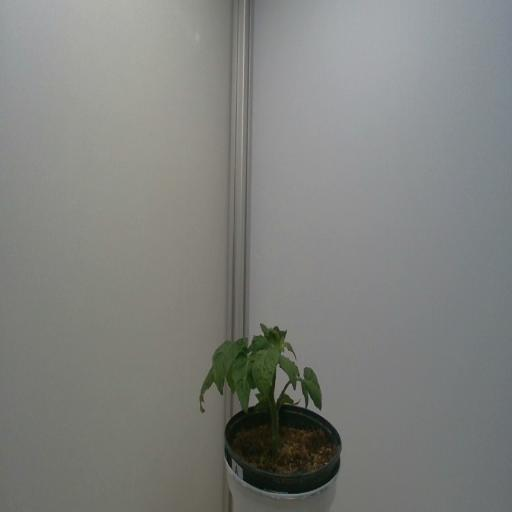Tomato-Leaves-Cupboard-: (210, 338, 244, 396), (303, 366, 327, 416), (234, 351, 252, 416), (274, 347, 300, 392), (254, 346, 278, 394), (258, 317, 289, 350)
